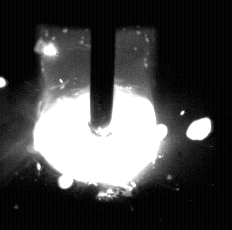arame: (91, 0, 115, 137)
poca: (32, 0, 169, 230)
